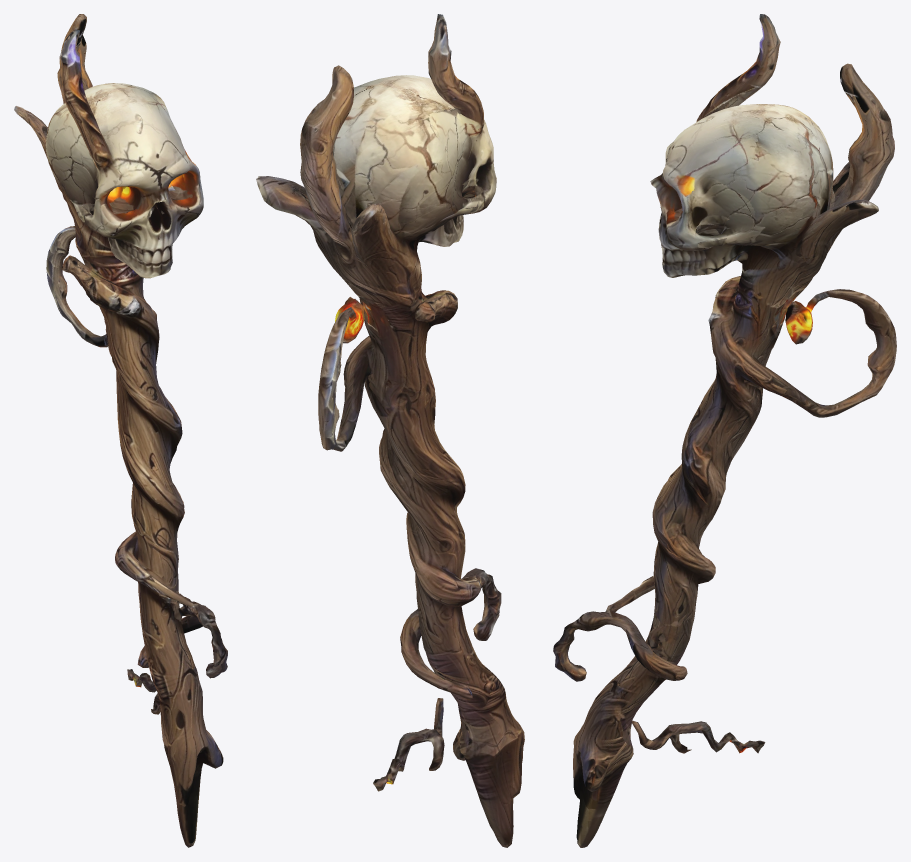
File: venomskull-staff.glb
3 renders of one model, left to right at view 1: azimuth 30°, elevation 25°; view 2: azimuth 150°, elevation 25°; view 3: azimuth 270°, elevation 25°, orthographic. The views are drawn at different scales.
Bounding box in the file's own units: 0.3317 × 2 × 0.7604.
Materials: 1 (1 with a texture image).
